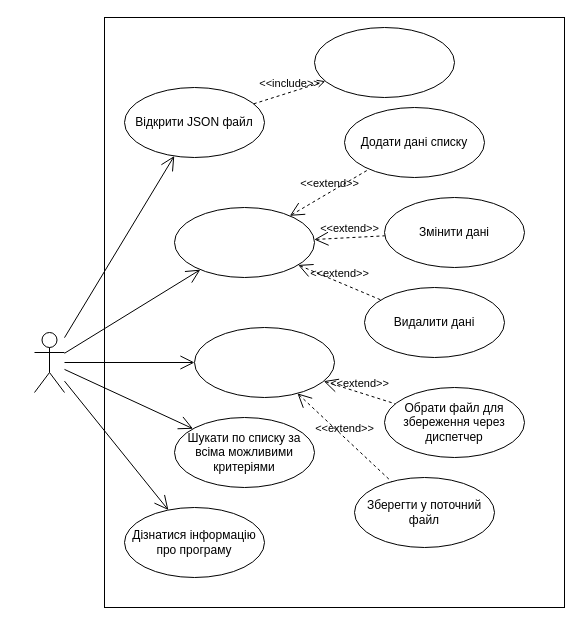
The diagram is 582 pixels wide and 625 high, and some of its shapes have lost their labels. The centre of each missing label's shape, as x and y in pixels:
Зберегти результат у JSON файл: the point at 264,362
Користувач: the point at 49,362
Обрати файл для відкриття через диспетчер: the point at 384,62
Редагувати список: the point at 244,242
